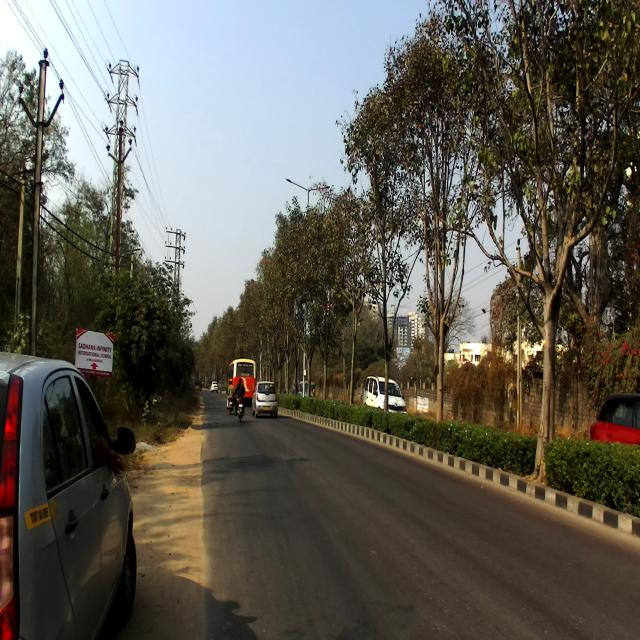car ahead at: (0, 350, 137, 640)
